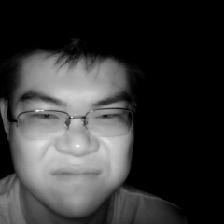sad: (8, 25, 146, 224)
